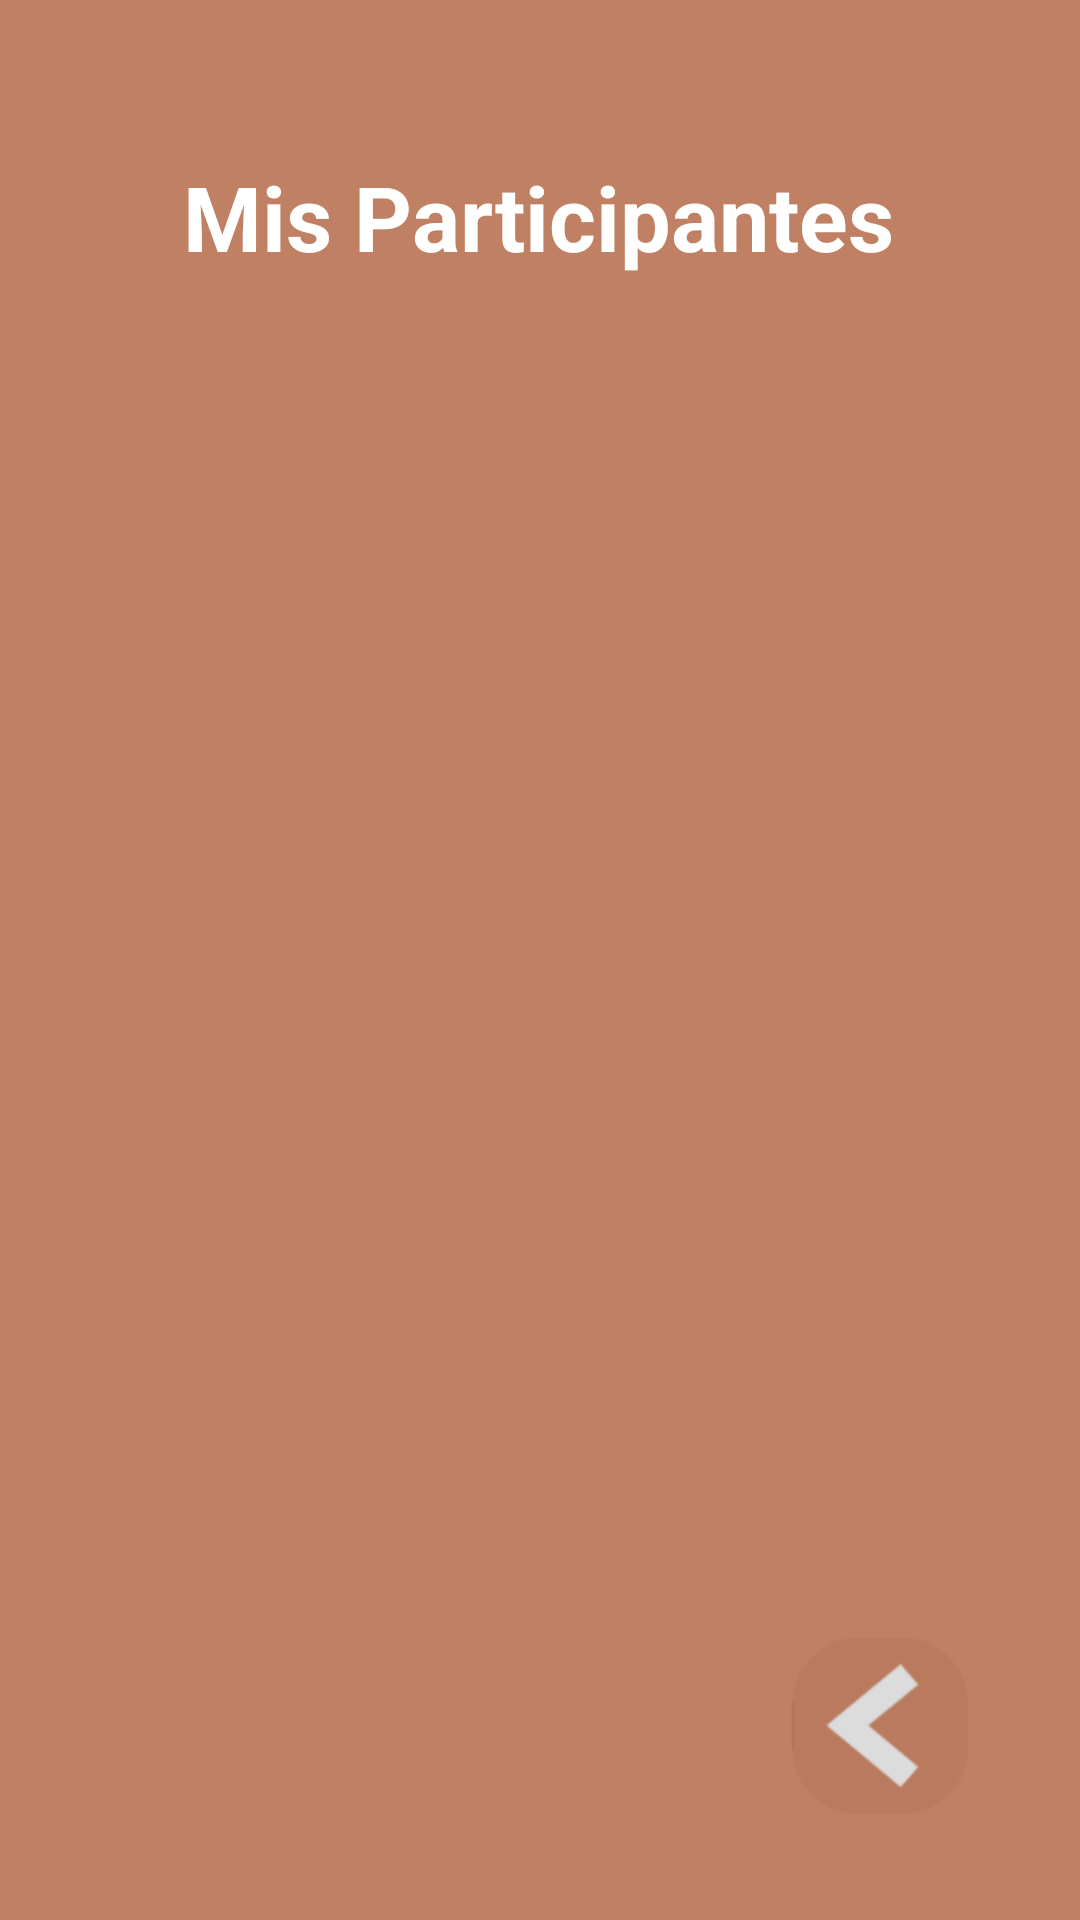

Where to tap for icons on this 1080*1920 app screen, as point (x, y):
regresar: point (872, 1725)
